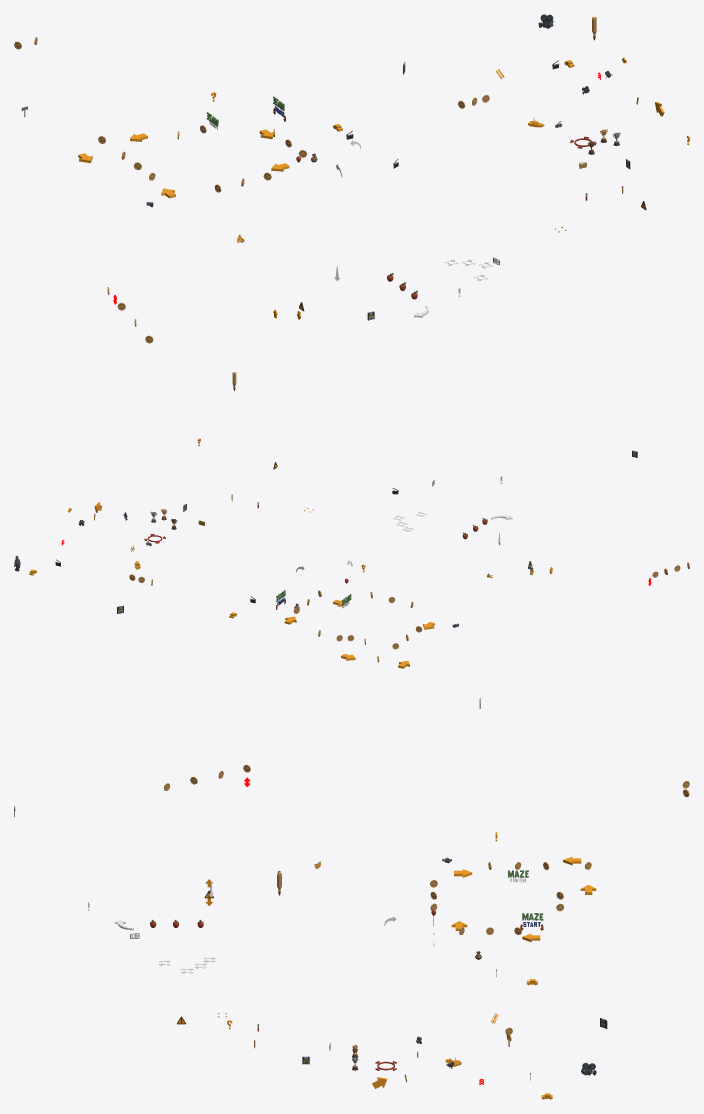
Rendered from icon.glb.
The picture shows the model from 3 angles, top to bottom: view 1: azimuth 30°, elevation 25°; view 2: azimuth 150°, elevation 25°; view 3: azimuth 270°, elevation 25°; orthographic projection. The views are drawn at different scales.
Size of the model in its own units: 133 by 39.67 by 127.
9 materials, 5 textured.
